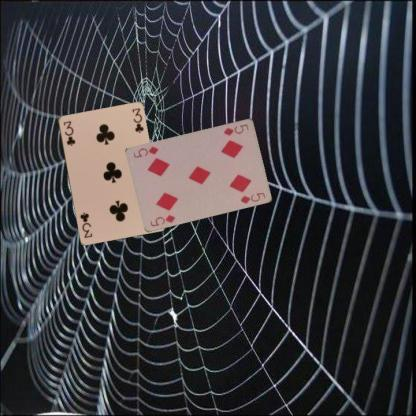3c: (61, 118, 76, 147)
5d: (147, 211, 177, 228), (221, 121, 250, 137)
